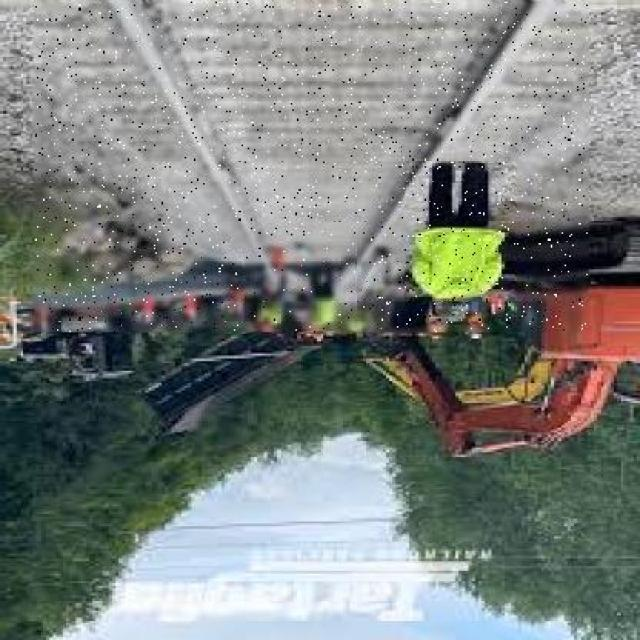rail: (36, 3, 589, 333)
